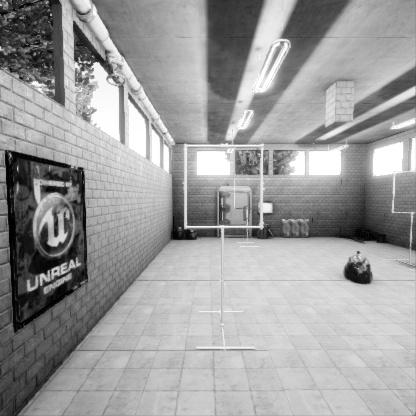gate: (185, 191, 268, 273), (233, 208, 263, 238), (397, 204, 416, 247)
